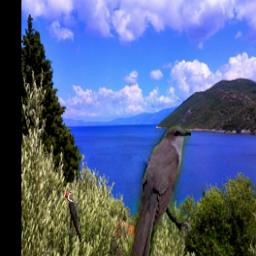Cuckoo: (125, 126, 191, 256)
Woodpecker: (64, 188, 81, 245)
